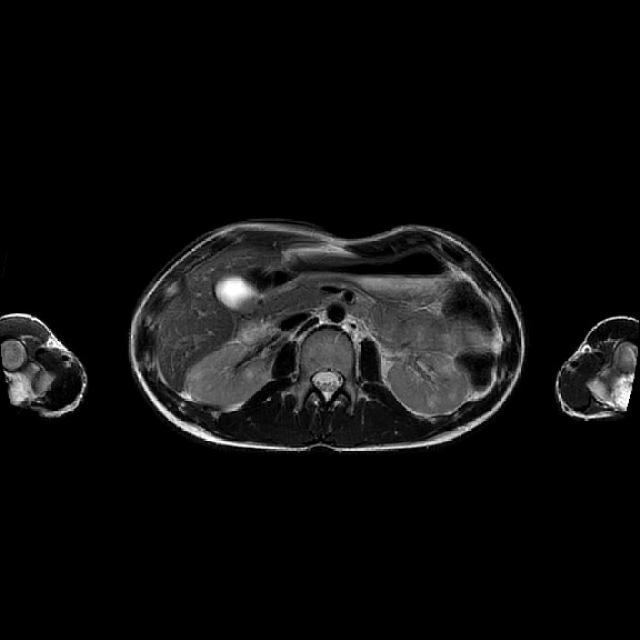sag: (182, 341, 270, 405)
sol: (387, 353, 470, 416)
